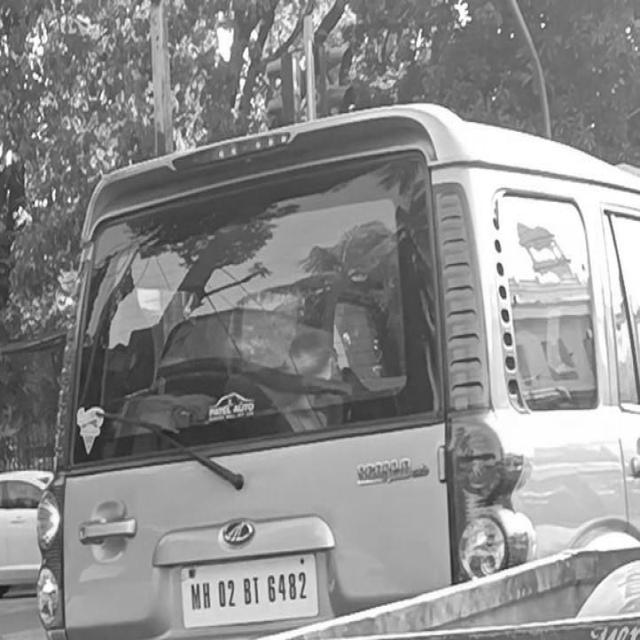car: (25, 95, 640, 640)
license-plate: (182, 561, 324, 626)
